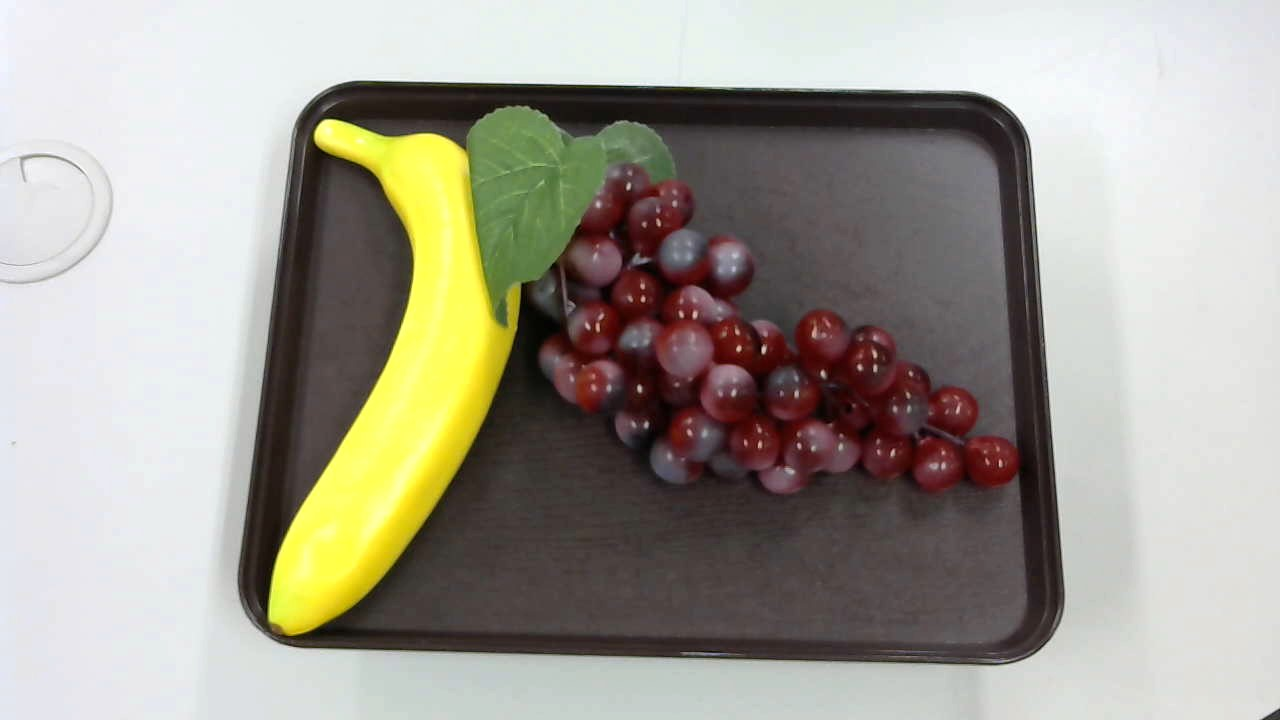banana: (268, 119, 522, 635)
grape: (466, 102, 1030, 505)
